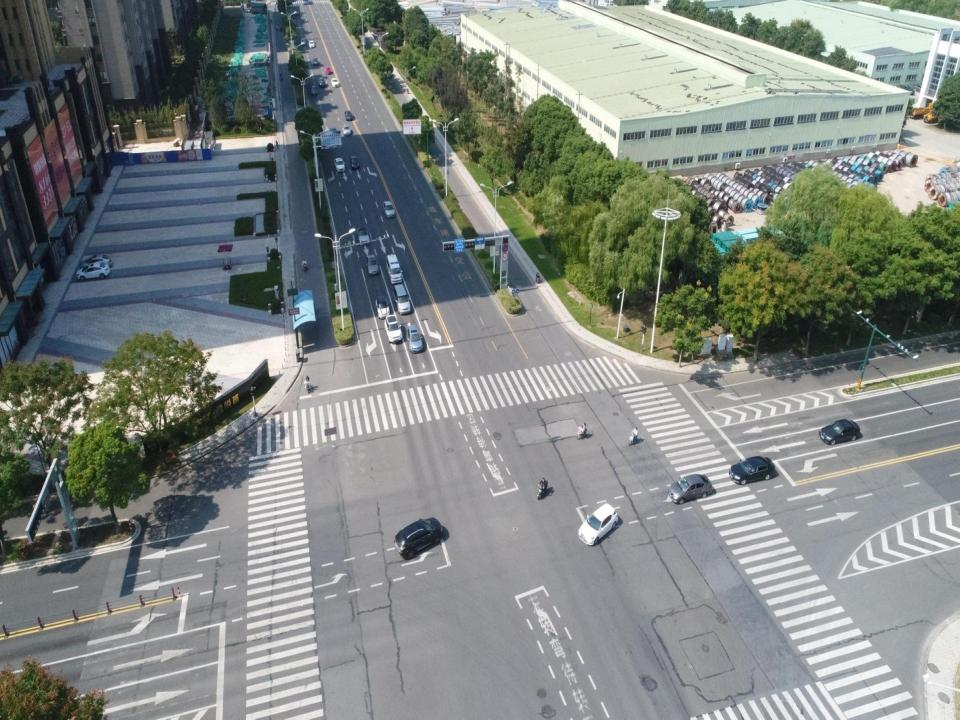car: (393, 515, 443, 559), (576, 502, 618, 547), (728, 454, 776, 485), (668, 473, 712, 506), (816, 418, 862, 446), (75, 260, 110, 278), (384, 312, 404, 343), (406, 321, 424, 355), (376, 292, 391, 320), (81, 254, 113, 266), (367, 253, 379, 276), (358, 226, 370, 246), (384, 200, 396, 218), (333, 157, 345, 173), (350, 154, 360, 168), (342, 124, 352, 136), (330, 78, 340, 88), (345, 109, 353, 121), (310, 84, 318, 96), (318, 75, 326, 87), (312, 56, 320, 65), (308, 40, 315, 49), (300, 37, 306, 46), (326, 65, 331, 73)
truck: (385, 252, 403, 284)
van: (393, 285, 411, 315)
